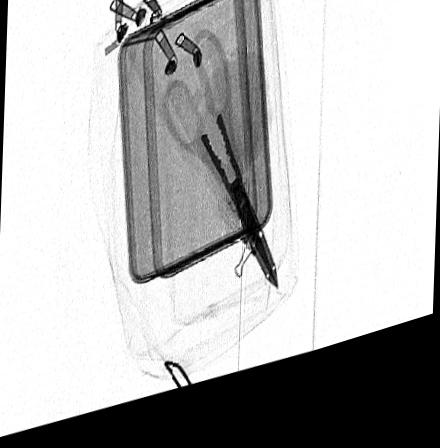Scissors: (160, 38, 280, 305)
